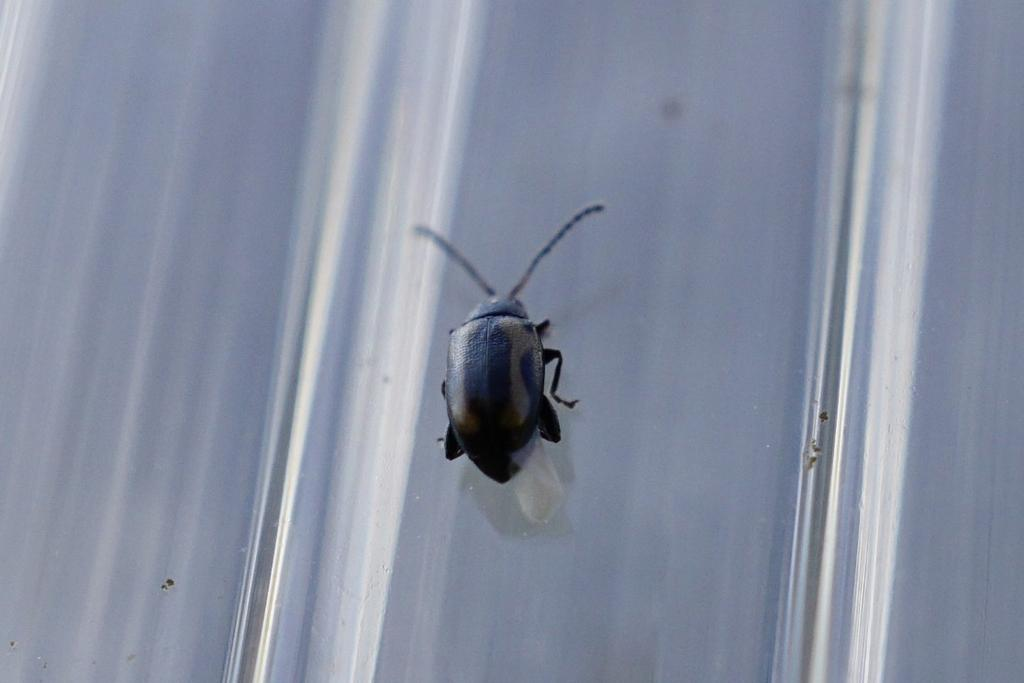flea_beetle: (357, 157, 662, 537)
